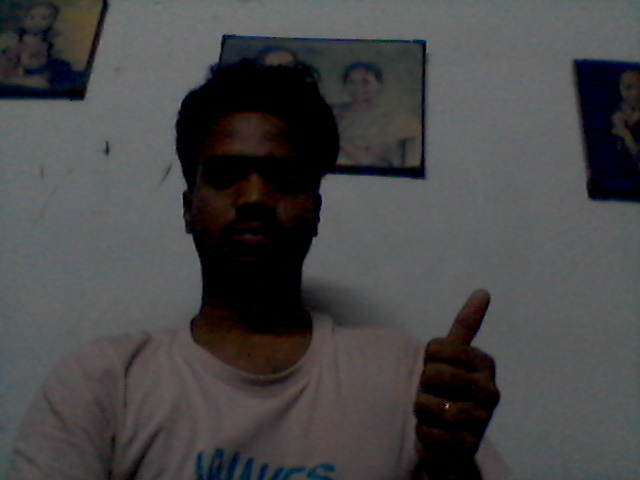Fine: (411, 278, 507, 464)
